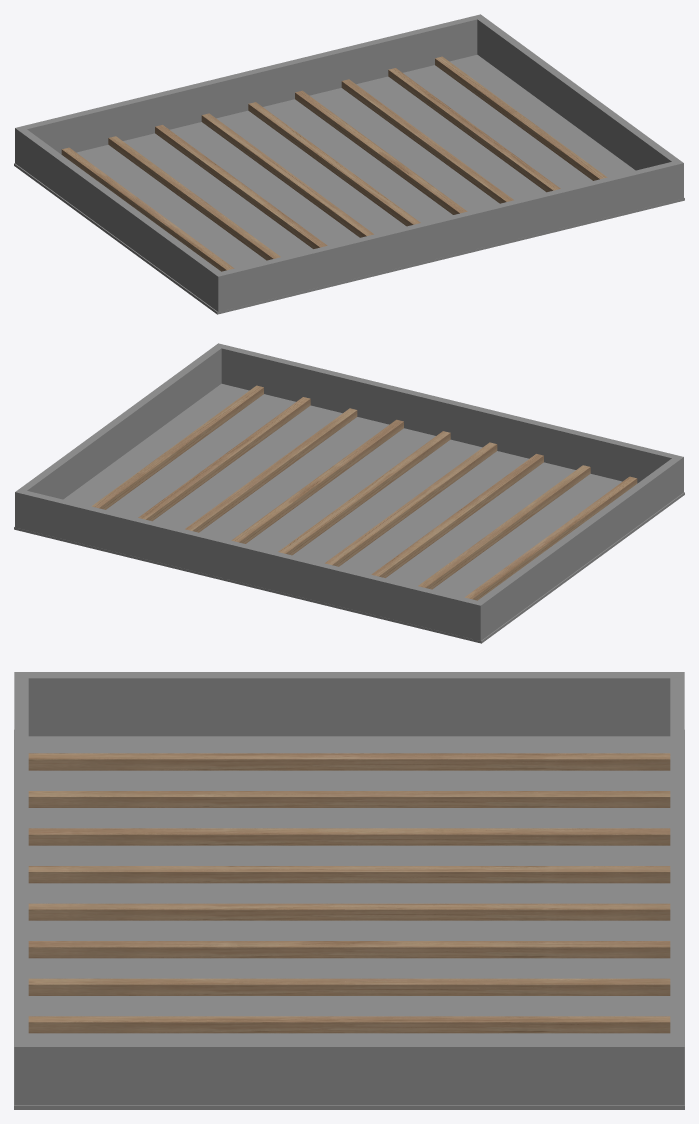
The model's file is Ceiling.FBX.
3 renders of one model, top to bottom at view 1: azimuth 30°, elevation 25°; view 2: azimuth 150°, elevation 25°; view 3: azimuth 270°, elevation 25°, orthographic. The views are drawn at different scales.
Parts seen in each view (by area): view 1: Ceiling; view 2: Ceiling; view 3: Ceiling.
Part boxes in pixels (<box>): Ceiling: <box>14,14,684,314</box>; Ceiling: <box>14,343,684,643</box>; Ceiling: <box>14,672,684,1109</box>.
Bounding box in the file's own units: 1380 × 106 × 1040.
Materials: 2 (1 with a texture image).
